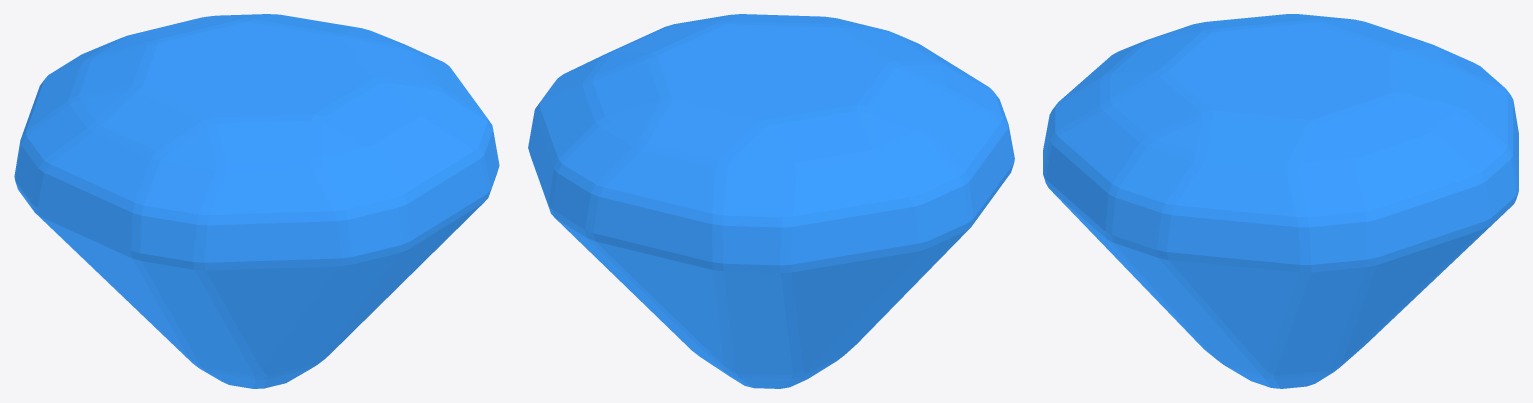
Rendered from token1.glb.
3 renders of one model, left to right at view 1: azimuth 30°, elevation 25°; view 2: azimuth 150°, elevation 25°; view 3: azimuth 270°, elevation 25°, orthographic.
Visible parts, largest first — view 1: Cone; view 2: Cone; view 3: Cone.
Part boxes in pixels (bbox=[...]): Cone: bbox=[14, 14, 499, 388]; Cone: bbox=[528, 14, 1014, 388]; Cone: bbox=[1043, 14, 1518, 388].
Size of the model in its own units: 1.71 by 1.18 by 1.67.
Materials: 1 (1 with a texture image).
